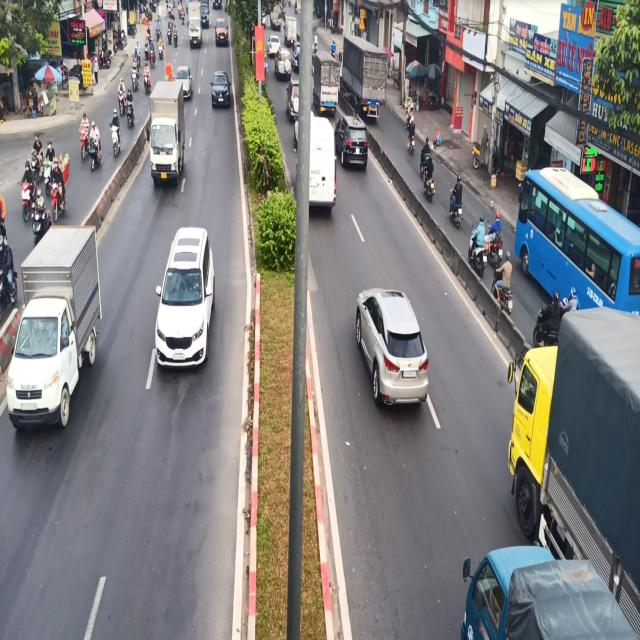car: (355, 274, 433, 429), (153, 218, 217, 382), (334, 110, 370, 182)
truck: (7, 205, 98, 447), (146, 84, 187, 190)
